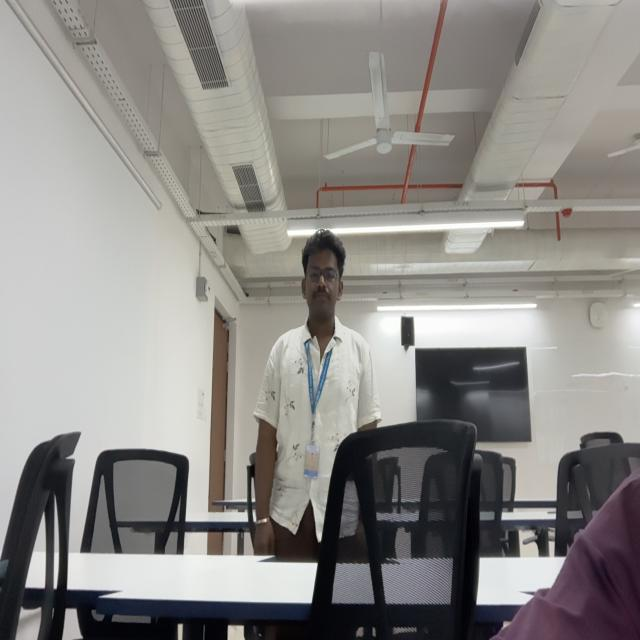sai: (300, 228, 345, 315)
